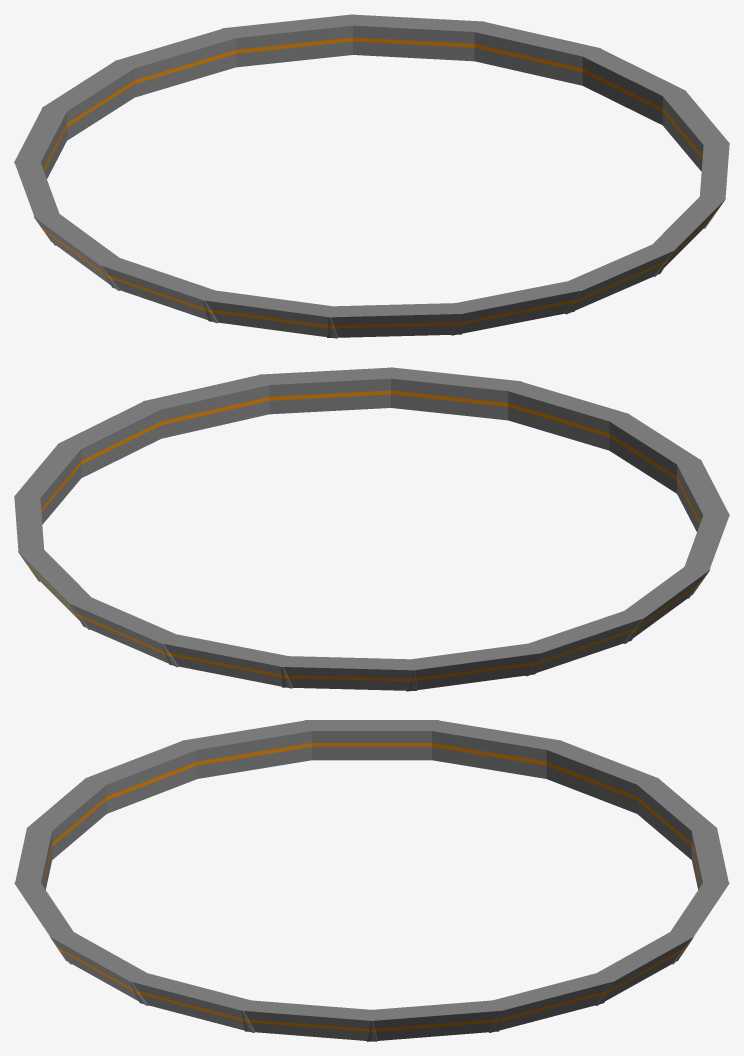
Rendered from MapCenterBorder.fbx.
The picture shows the model from 3 angles, top to bottom: view 1: azimuth 30°, elevation 25°; view 2: azimuth 150°, elevation 25°; view 3: azimuth 270°, elevation 25°; orthographic projection.
Parts seen in each view (by area): view 1: MapCenterBorder; view 2: MapCenterBorder; view 3: MapCenterBorder.
Part boxes in pixels (x1,y1,x2,y2): MapCenterBorder: [14, 14, 729, 338]; MapCenterBorder: [14, 367, 729, 691]; MapCenterBorder: [14, 720, 729, 1041].
Size of the model in its own units: 1057 by 47.85 by 1063.
